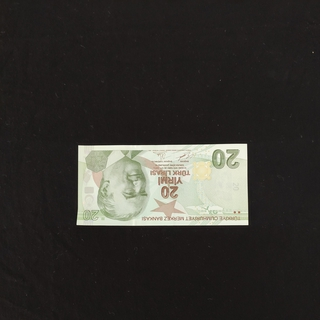20TLFront: (75, 142, 249, 227)
